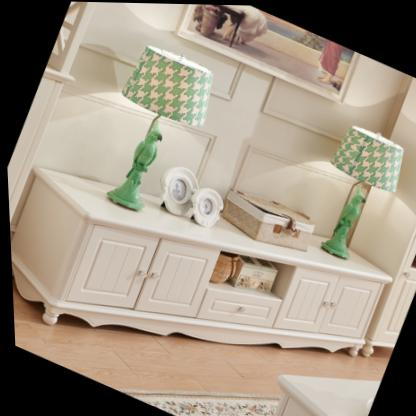TV stand: (8, 165, 388, 356)
Wooden floor: (10, 284, 389, 416)
